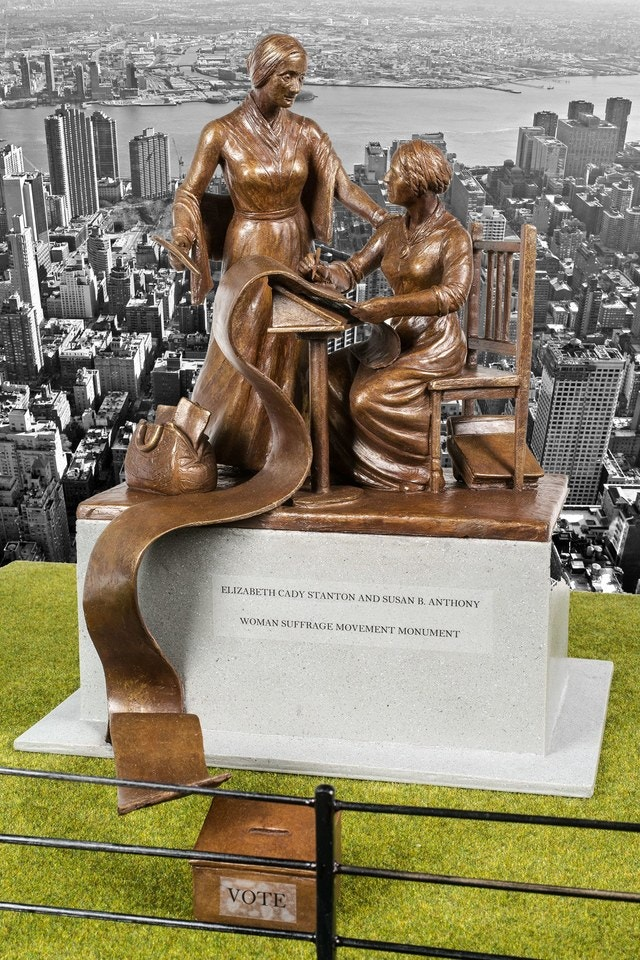person-like: (151, 23, 400, 481), (296, 134, 486, 504)
